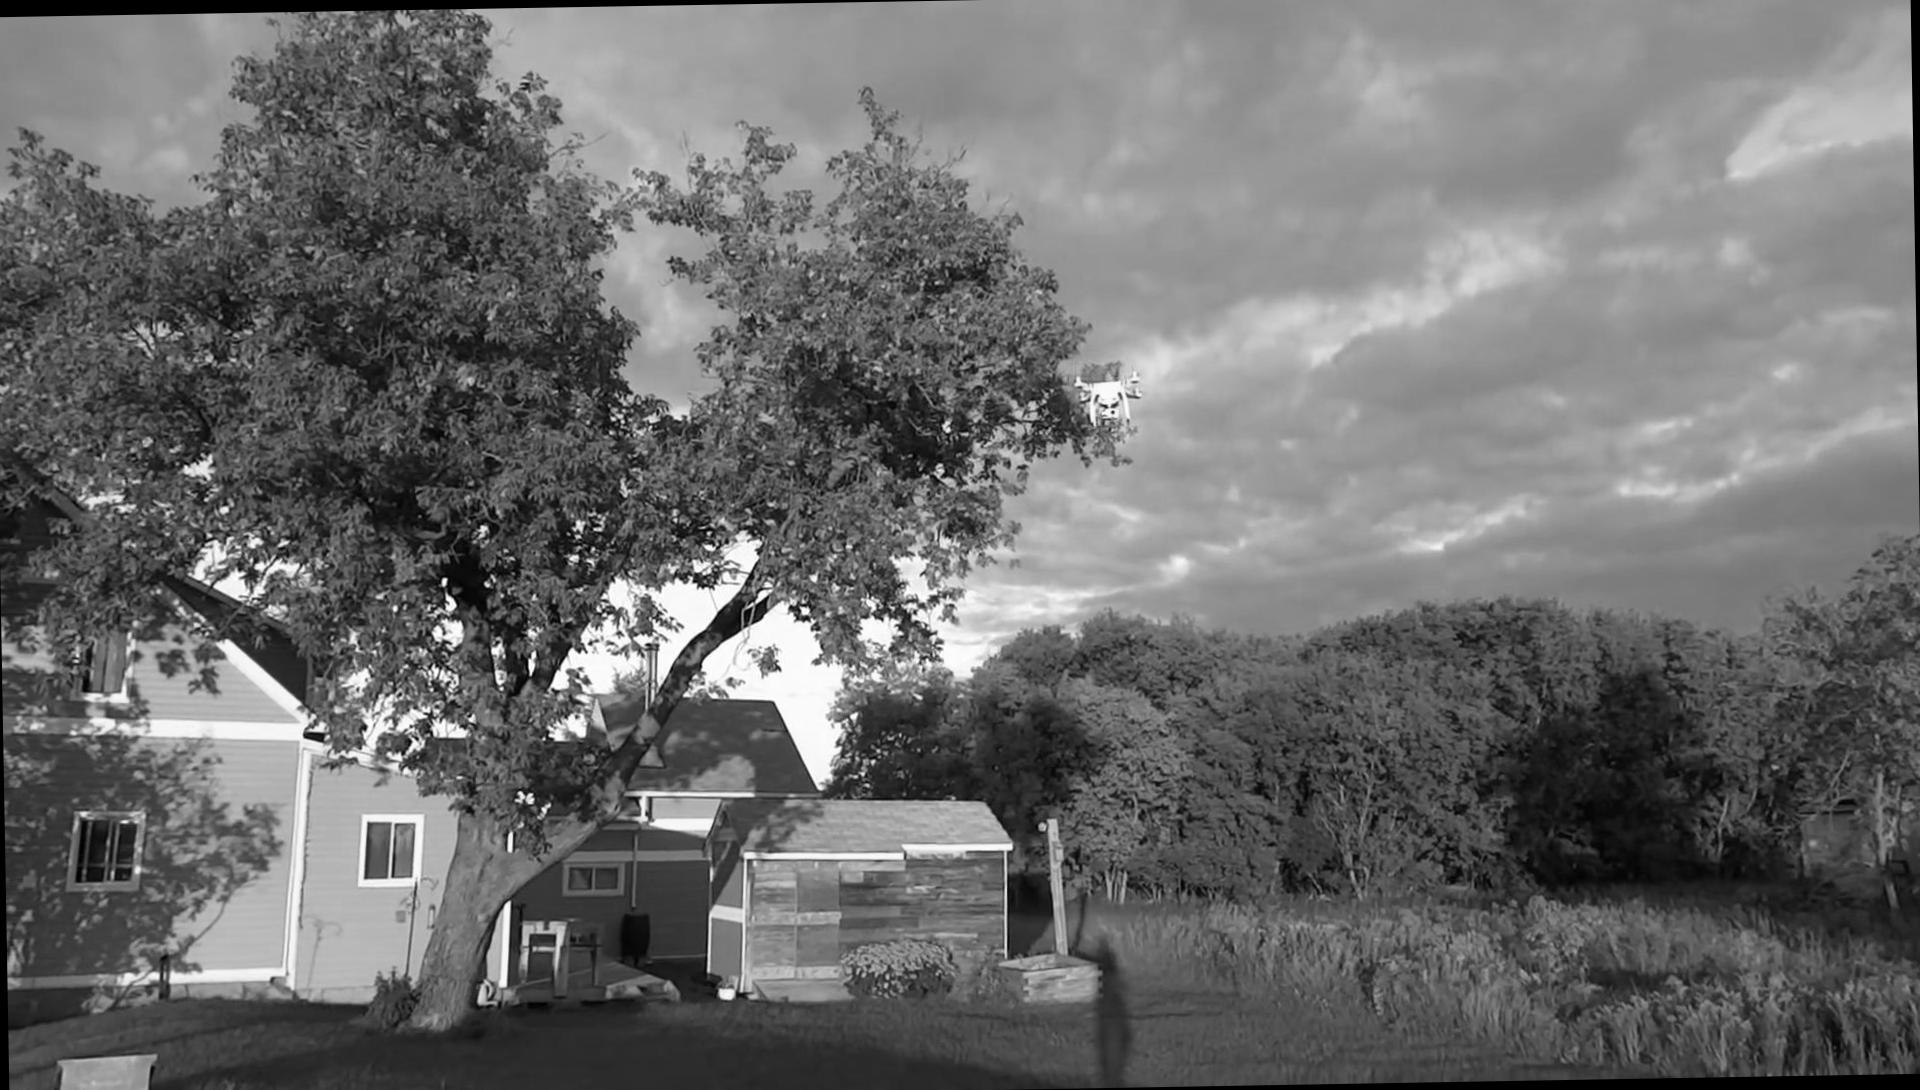drone: (1069, 366, 1147, 422)
